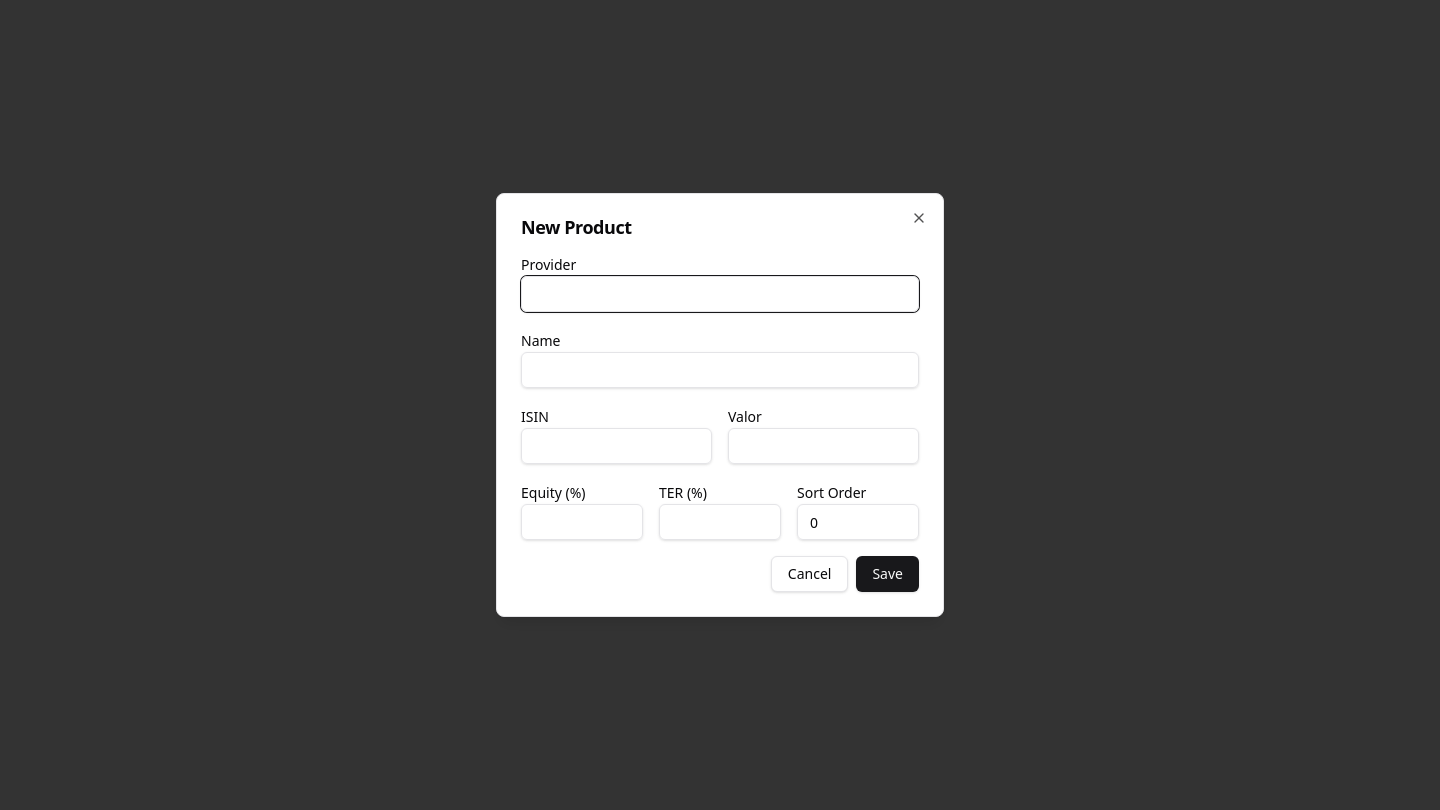
Test: ProductFormDialog › blocks the submit when the TER exceeds 10
In the field labelled "Provider": (720, 294) [521,276,919,312], type "frankly"
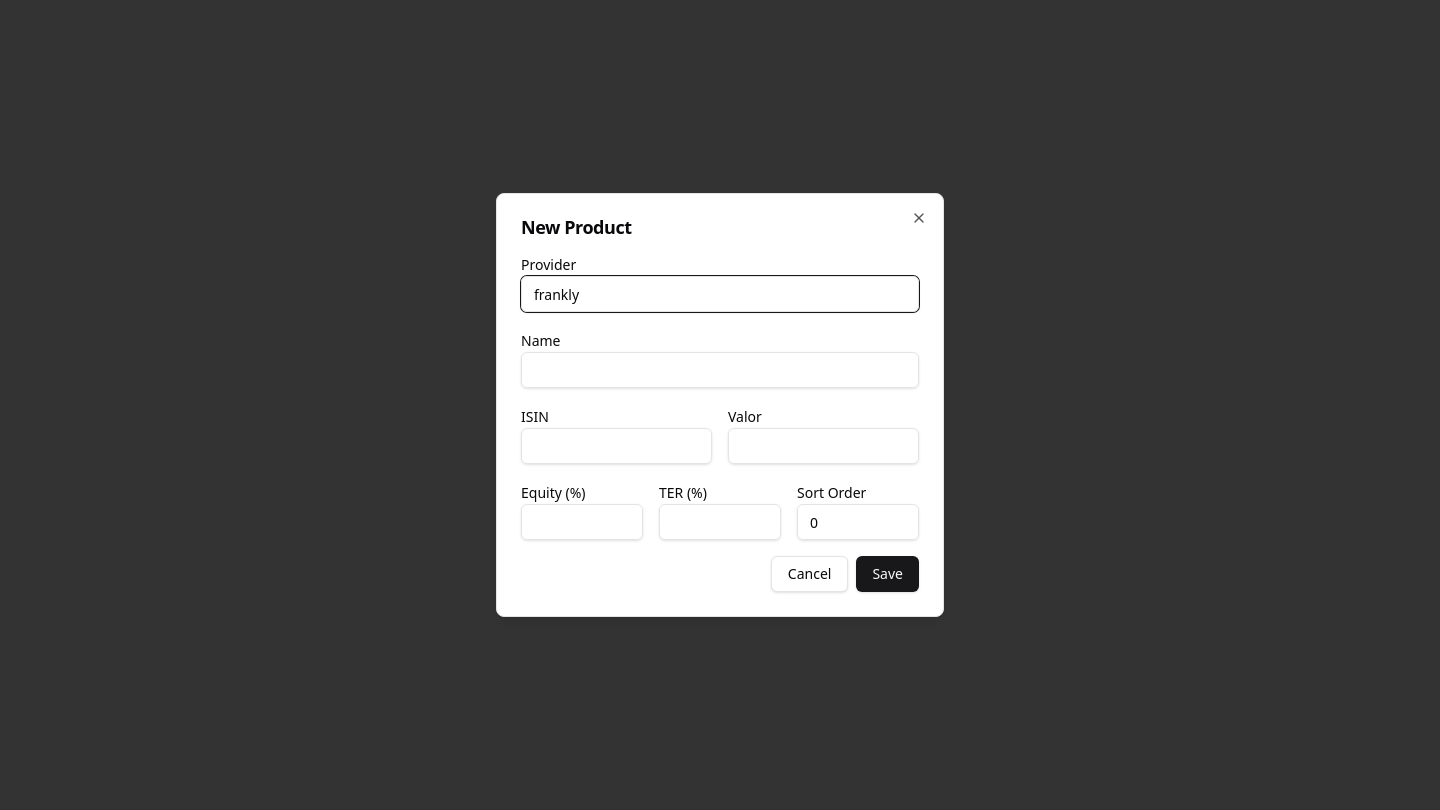
In the field labelled "Name": (720, 370) [521,352,919,388], type "Extreme 95"
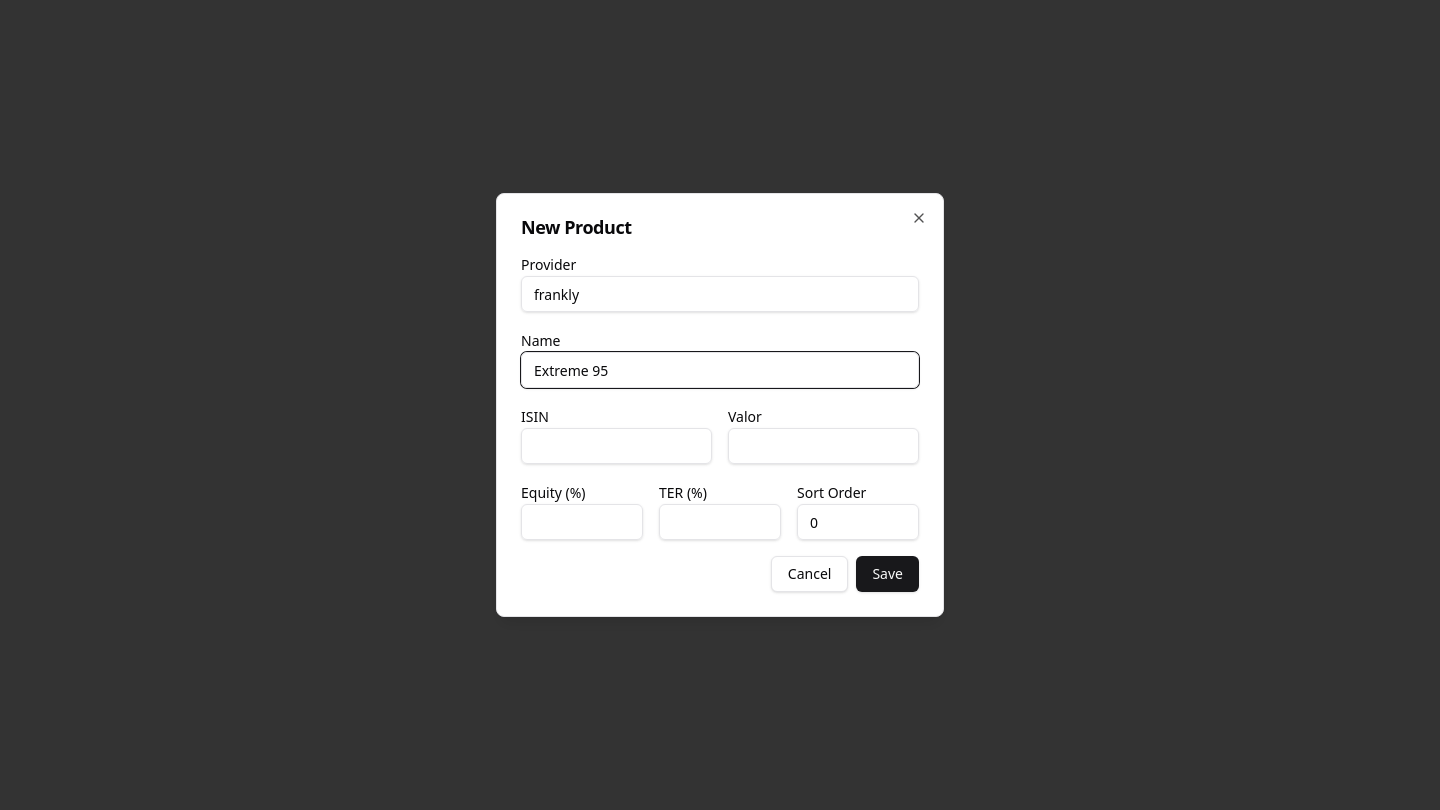
In the field labelled "ISIN": (616, 446) [521,428,712,464], type "CH0473243999"
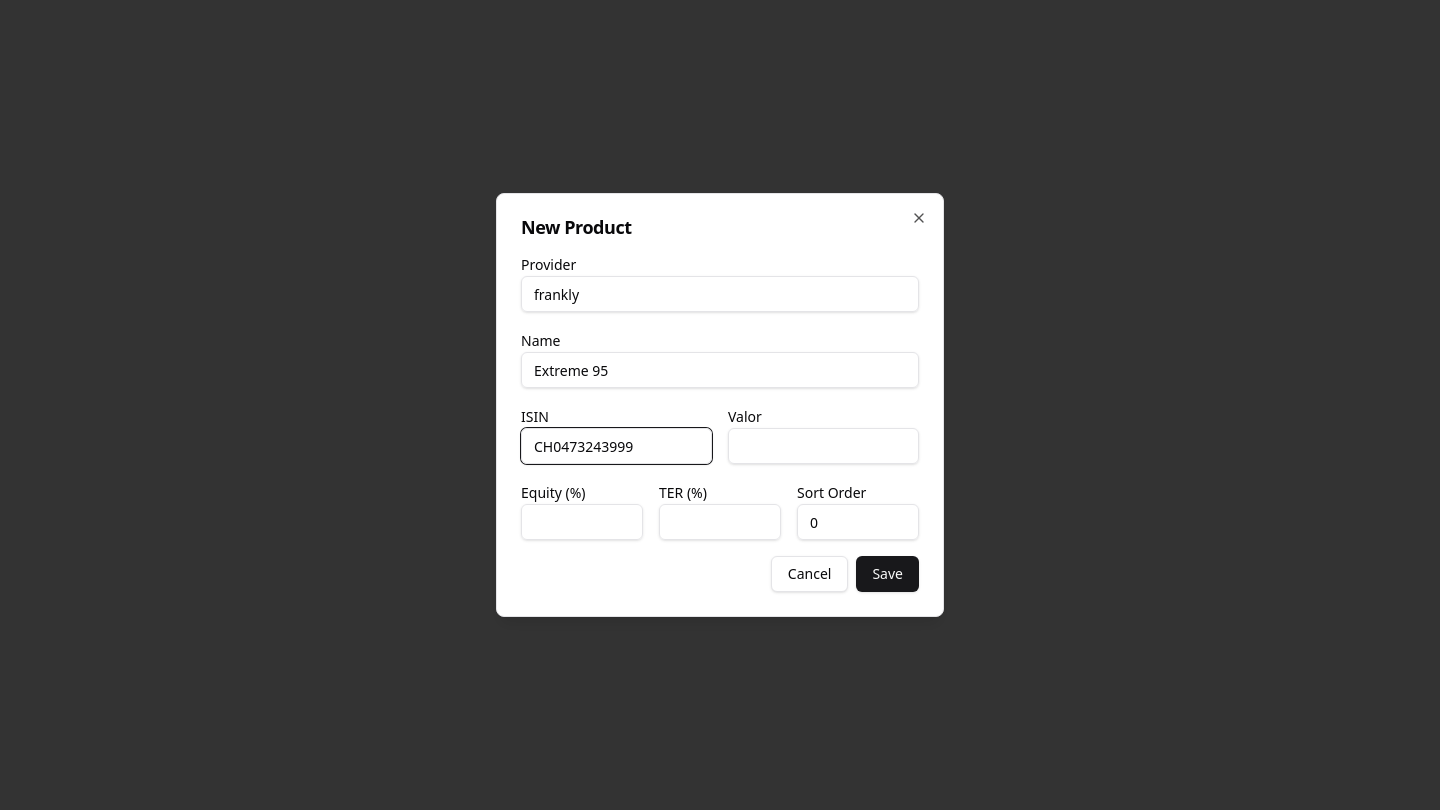
In the number field labelled "Equity (%)": (582, 522) [521,504,643,540], type "95"
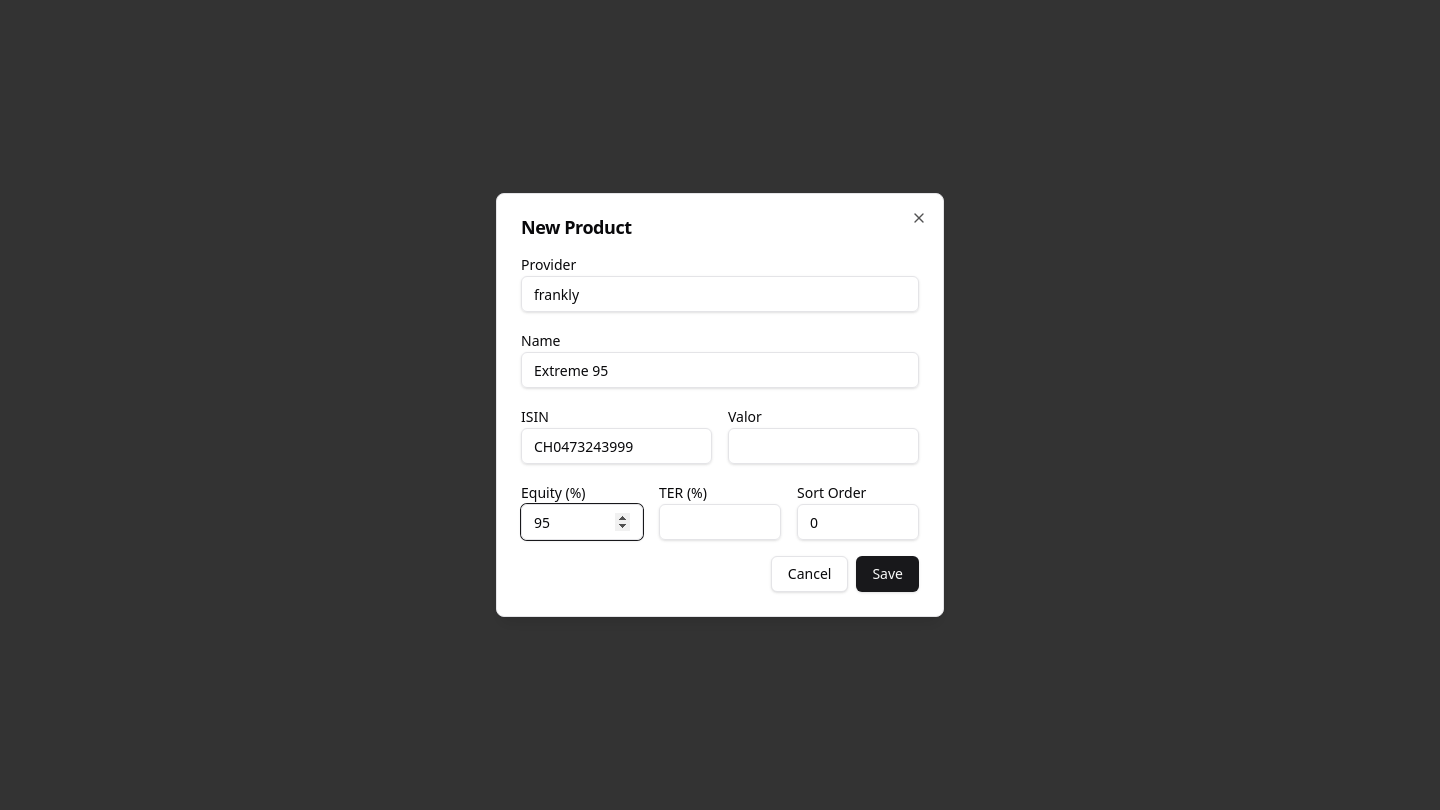
In the number field labelled "TER (%)": (720, 522) [659,504,781,540], type "12"
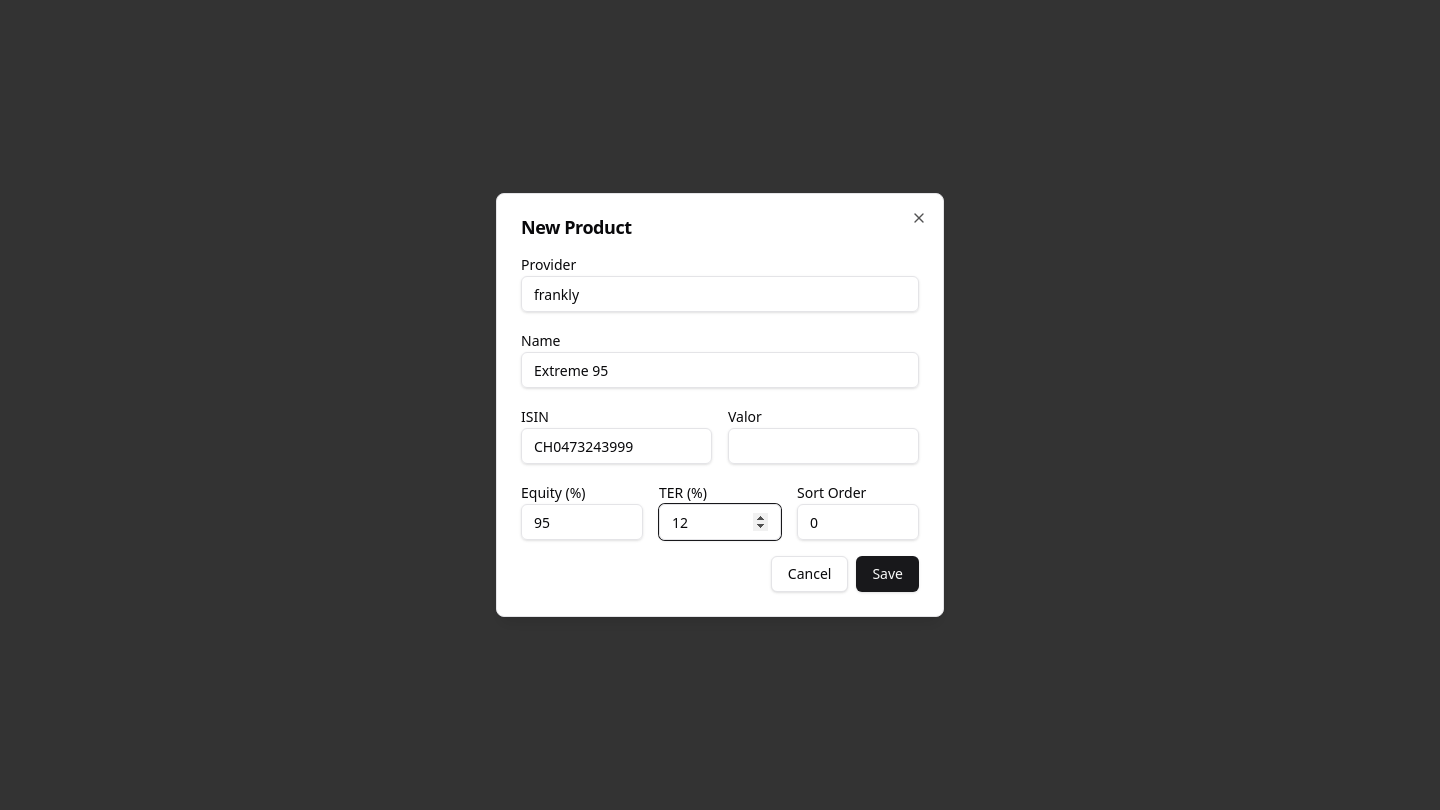
Click the button "Save": (888, 574) [856,556,919,592]
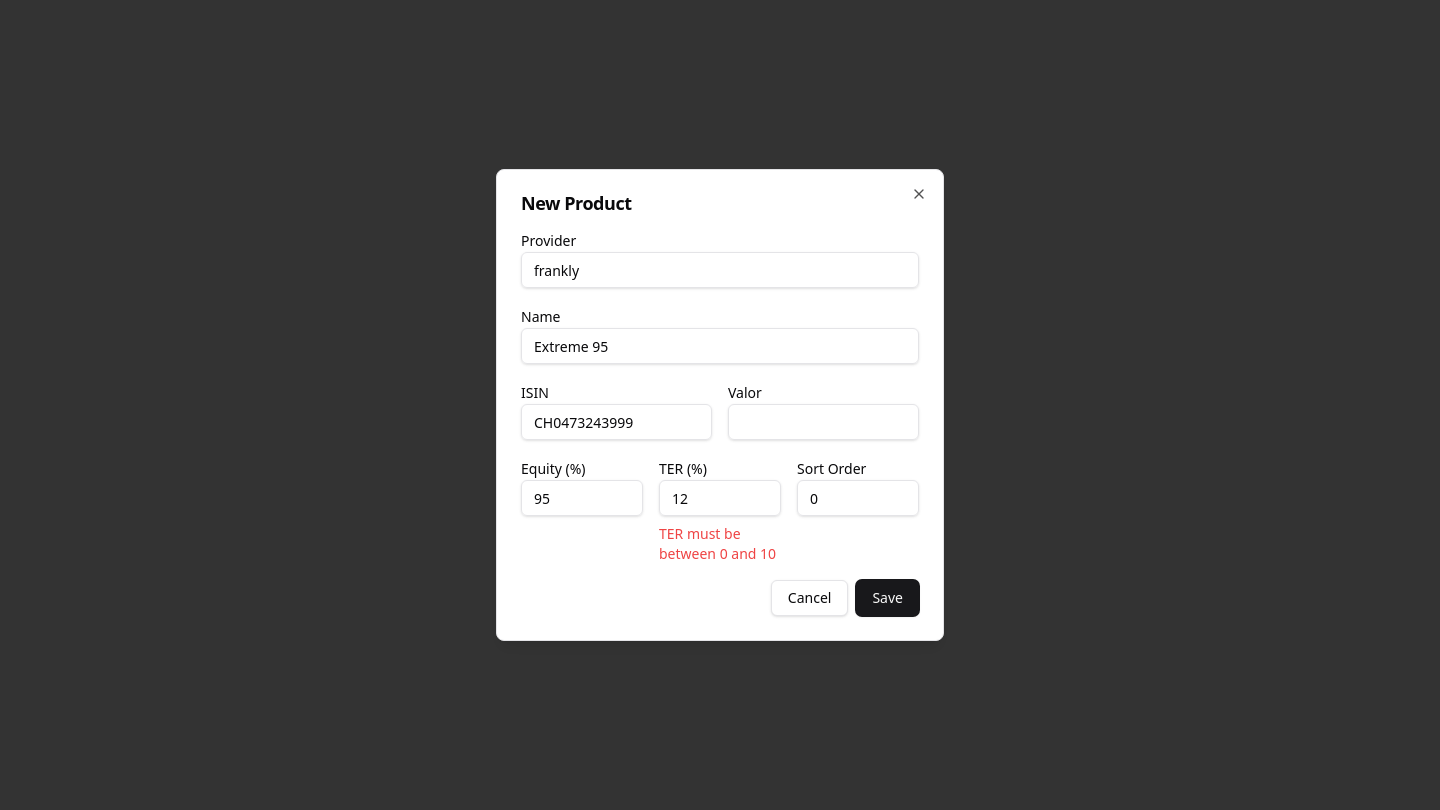
Check: the text "TER must be between 0 and 10" is shown, box [659,524,781,564]
